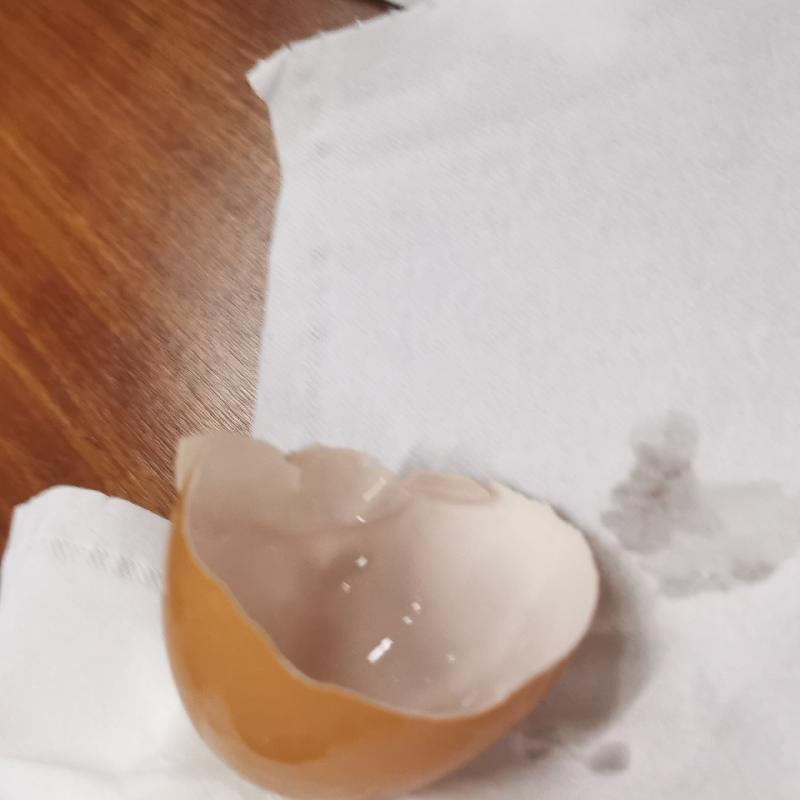eggshell: (163, 427, 608, 800)
